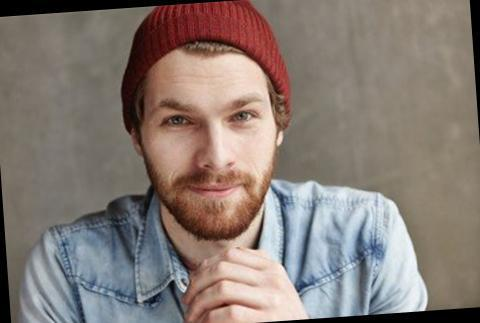Sober: (149, 52, 274, 217)
